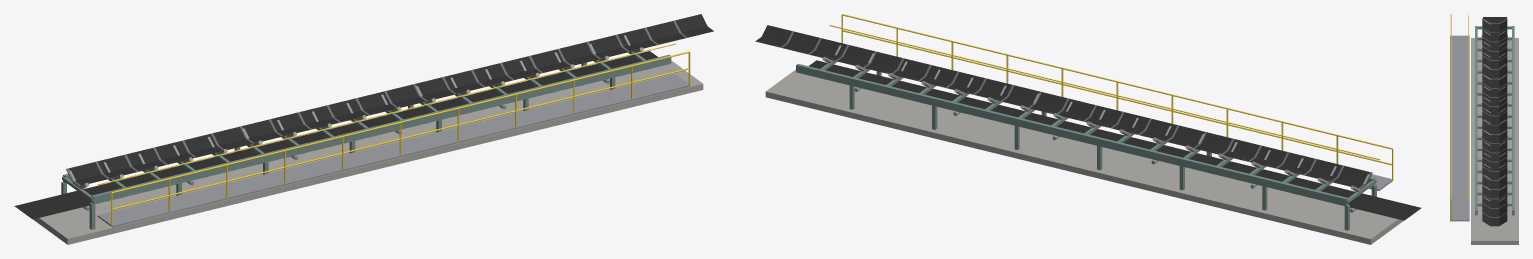
The model's file is MC_Conveyor_20m.glb.
The picture shows the model from 3 angles, left to right: view 1: azimuth 30°, elevation 25°; view 2: azimuth 150°, elevation 25°; view 3: azimuth 270°, elevation 25°; orthographic projection. The views are drawn at different scales.
Parts seen in each view (by area): view 1: CV_Structure, CV_Belt_Top, CV_Belt_Return, CV_Idlers; view 2: CV_Structure, CV_Belt_Top, CV_Belt_Return, CV_Idlers; view 3: CV_Structure, CV_Belt_Top, CV_Idlers, CV_Belt_Return.
Boxes of the visible parts, x1,y1,x2,y2 form: CV_Structure: (33,43,703,244); CV_Belt_Top: (66,14,713,186); CV_Belt_Return: (14,51,657,219); CV_Idlers: (62,35,645,210); CV_Structure: (765,14,1403,244); CV_Belt_Top: (755,25,1372,188); CV_Belt_Return: (809,60,1421,220); CV_Idlers: (820,45,1376,212); CV_Structure: (1450,14,1518,244); CV_Belt_Top: (1482,18,1507,226); CV_Idlers: (1477,20,1511,206); CV_Belt_Return: (1483,17,1506,23).
Bounding box in the file's own units: 23.8 × 1.87 × 3.15.
